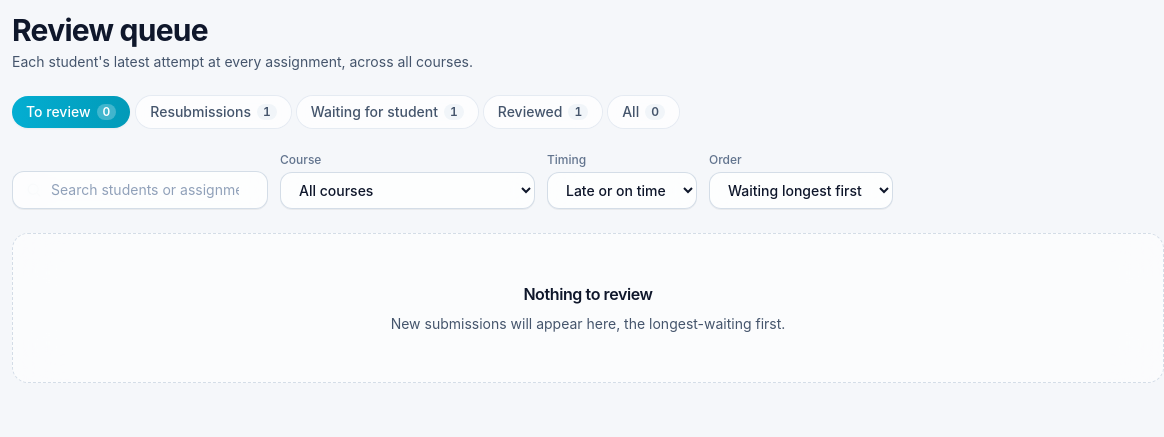
Test: ReviewQueuePage › shows the empty and error states
Expected: the heading "Nothing to review" is shown, [523,284,653,304]
Click the button "Reviewed 1".
click(543, 112)  # box [484,96,602,128]
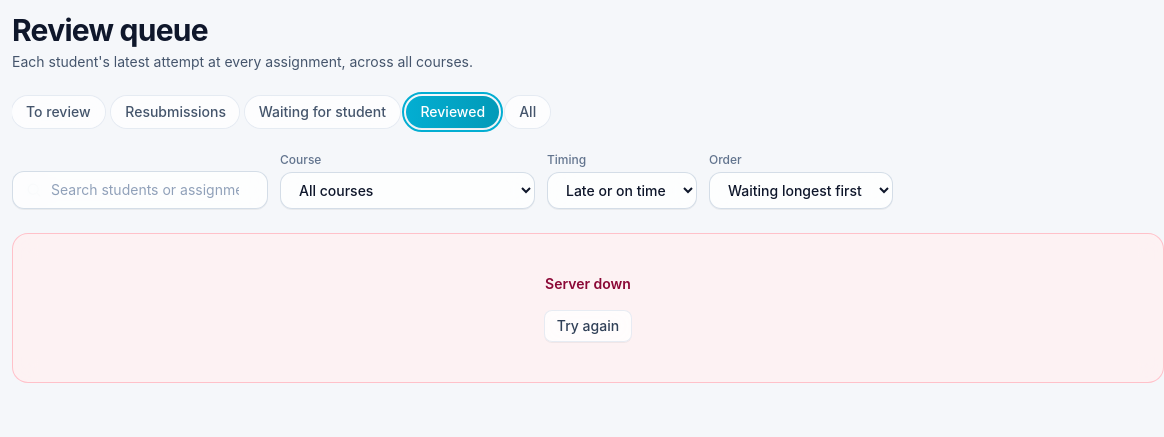
Now the message shows "Server down", box [545,275,631,292]
Click the button "Try again".
click(588, 326)  # box [544,310,632,342]
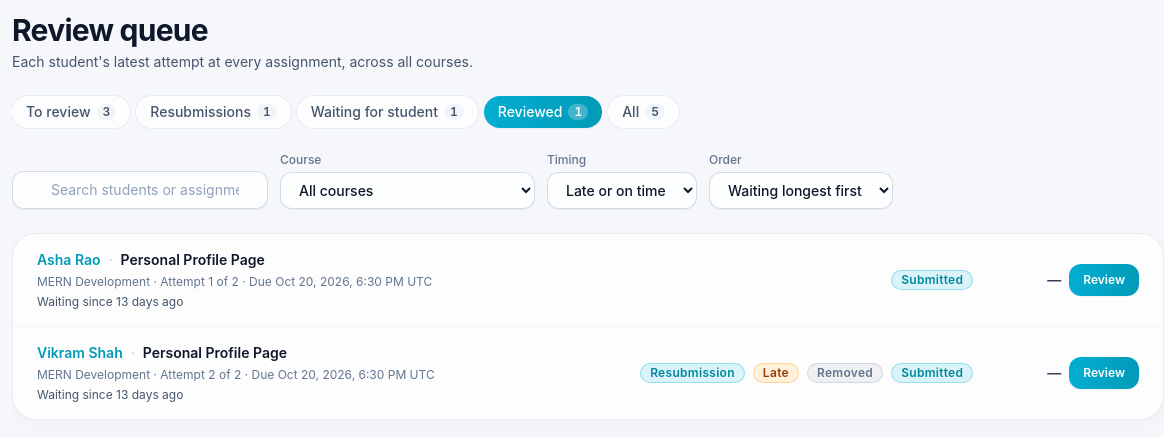
Now the list named "Submissions" is shown, box [12,233,1163,420]
